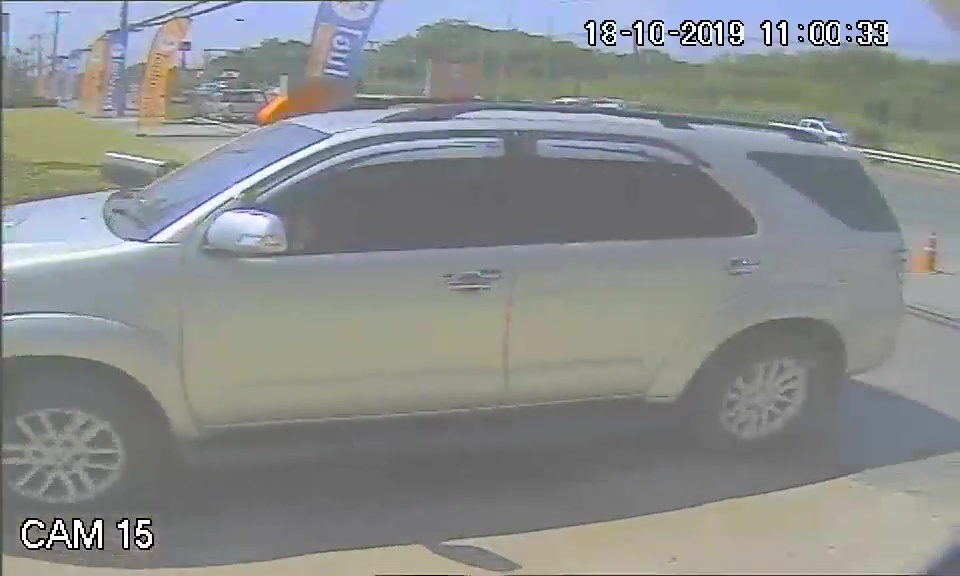pickup: (6, 92, 910, 476)
